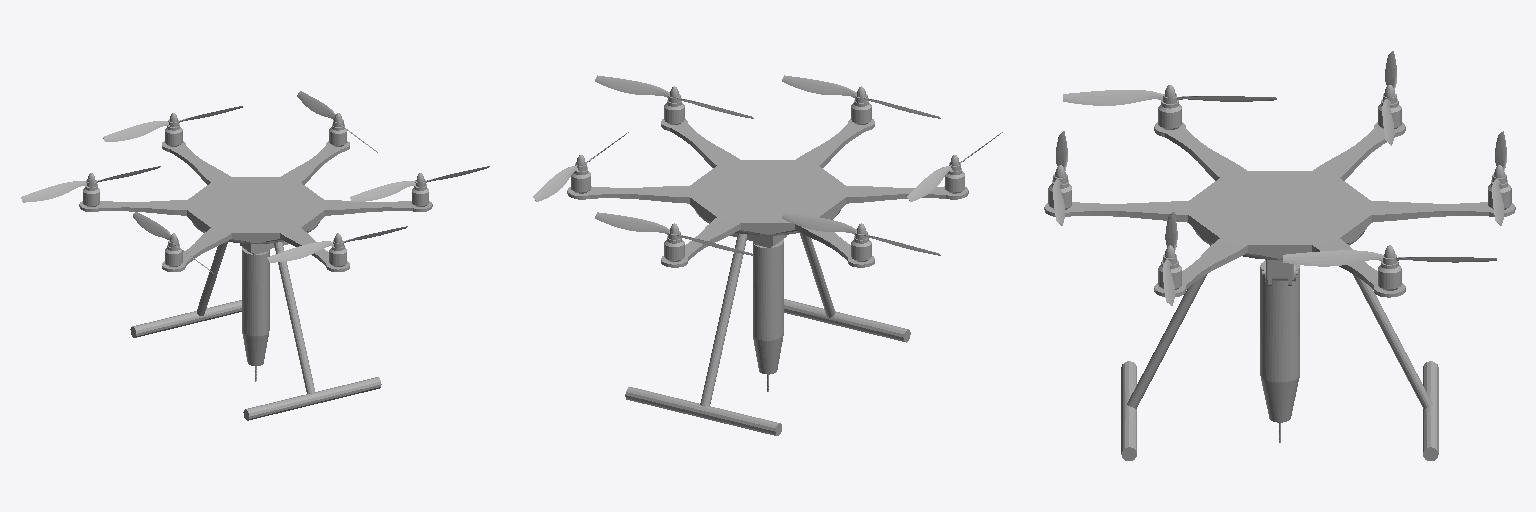
robot.urdf — Drilling:
<?xml version="1.0" ?>
<!-- =================================================================================== -->
<!-- |    This document was autogenerated by xacro from Drilling.xacro                 | -->
<!-- |    EDITING THIS FILE BY HAND IS NOT RECOMMENDED                                 | -->
<!-- =================================================================================== -->
<robot name="Drilling">
  <material name="silver">
    <color rgba="0.700 0.700 0.700 1.000"/>
  </material>
  <transmission name="Rev1_tran">
    <type>transmission_interface/SimpleTransmission</type>
    <joint name="Rev1">
      <hardwareInterface>hardware_interface/EffortJointInterface</hardwareInterface>
    </joint>
    <actuator name="Rev1_actr">
      <hardwareInterface>hardware_interface/EffortJointInterface</hardwareInterface>
      <mechanicalReduction>1</mechanicalReduction>
    </actuator>
  </transmission>
  <transmission name="Rev2_tran">
    <type>transmission_interface/SimpleTransmission</type>
    <joint name="Rev2">
      <hardwareInterface>hardware_interface/EffortJointInterface</hardwareInterface>
    </joint>
    <actuator name="Rev2_actr">
      <hardwareInterface>hardware_interface/EffortJointInterface</hardwareInterface>
      <mechanicalReduction>1</mechanicalReduction>
    </actuator>
  </transmission>
  <transmission name="Rev3_tran">
    <type>transmission_interface/SimpleTransmission</type>
    <joint name="Rev3">
      <hardwareInterface>hardware_interface/EffortJointInterface</hardwareInterface>
    </joint>
    <actuator name="Rev3_actr">
      <hardwareInterface>hardware_interface/EffortJointInterface</hardwareInterface>
      <mechanicalReduction>1</mechanicalReduction>
    </actuator>
  </transmission>
  <transmission name="Rev4_tran">
    <type>transmission_interface/SimpleTransmission</type>
    <joint name="Rev4">
      <hardwareInterface>hardware_interface/EffortJointInterface</hardwareInterface>
    </joint>
    <actuator name="Rev4_actr">
      <hardwareInterface>hardware_interface/EffortJointInterface</hardwareInterface>
      <mechanicalReduction>1</mechanicalReduction>
    </actuator>
  </transmission>
  <transmission name="Rev5_tran">
    <type>transmission_interface/SimpleTransmission</type>
    <joint name="Rev5">
      <hardwareInterface>hardware_interface/EffortJointInterface</hardwareInterface>
    </joint>
    <actuator name="Rev5_actr">
      <hardwareInterface>hardware_interface/EffortJointInterface</hardwareInterface>
      <mechanicalReduction>1</mechanicalReduction>
    </actuator>
  </transmission>
  <transmission name="Rev6_tran">
    <type>transmission_interface/SimpleTransmission</type>
    <joint name="Rev6">
      <hardwareInterface>hardware_interface/EffortJointInterface</hardwareInterface>
    </joint>
    <actuator name="Rev6_actr">
      <hardwareInterface>hardware_interface/EffortJointInterface</hardwareInterface>
      <mechanicalReduction>1</mechanicalReduction>
    </actuator>
  </transmission>
  <transmission name="Rev10_tran">
    <type>transmission_interface/SimpleTransmission</type>
    <joint name="Rev10">
      <hardwareInterface>hardware_interface/EffortJointInterface</hardwareInterface>
    </joint>
    <actuator name="Rev10_actr">
      <hardwareInterface>hardware_interface/EffortJointInterface</hardwareInterface>
      <mechanicalReduction>1</mechanicalReduction>
    </actuator>
  </transmission>
  <transmission name="Rev11_tran">
    <type>transmission_interface/SimpleTransmission</type>
    <joint name="Rev11">
      <hardwareInterface>hardware_interface/EffortJointInterface</hardwareInterface>
    </joint>
    <actuator name="Rev11_actr">
      <hardwareInterface>hardware_interface/EffortJointInterface</hardwareInterface>
      <mechanicalReduction>1</mechanicalReduction>
    </actuator>
  </transmission>
  <gazebo>
    <plugin filename="libgazebo_ros_control.so" name="control"/>
  </gazebo>
  <gazebo reference="base_link">
    <material>Gazebo/Silver</material>
    <mu1>0.2</mu1>
    <mu2>0.2</mu2>
    <selfCollide>true</selfCollide>
    <gravity>true</gravity>
  </gazebo>
  <gazebo reference="Component2_1">
    <material>Gazebo/Silver</material>
    <mu1>0.2</mu1>
    <mu2>0.2</mu2>
    <selfCollide>true</selfCollide>
  </gazebo>
  <gazebo reference="Component2_2">
    <material>Gazebo/Silver</material>
    <mu1>0.2</mu1>
    <mu2>0.2</mu2>
    <selfCollide>true</selfCollide>
  </gazebo>
  <gazebo reference="Component2_3">
    <material>Gazebo/Silver</material>
    <mu1>0.2</mu1>
    <mu2>0.2</mu2>
    <selfCollide>true</selfCollide>
  </gazebo>
  <gazebo reference="Component2_4">
    <material>Gazebo/Silver</material>
    <mu1>0.2</mu1>
    <mu2>0.2</mu2>
    <selfCollide>true</selfCollide>
  </gazebo>
  <gazebo reference="Component2_5">
    <material>Gazebo/Silver</material>
    <mu1>0.2</mu1>
    <mu2>0.2</mu2>
    <selfCollide>true</selfCollide>
  </gazebo>
  <gazebo reference="Component2_6">
    <material>Gazebo/Silver</material>
    <mu1>0.2</mu1>
    <mu2>0.2</mu2>
    <selfCollide>true</selfCollide>
  </gazebo>
  <gazebo reference="Component3_1">
    <material>Gazebo/Silver</material>
    <mu1>0.2</mu1>
    <mu2>0.2</mu2>
    <selfCollide>true</selfCollide>
  </gazebo>
  <gazebo reference="Component5_1">
    <material>Gazebo/Silver</material>
    <mu1>0.2</mu1>
    <mu2>0.2</mu2>
    <selfCollide>true</selfCollide>
  </gazebo>
  <gazebo reference="Component4_1">
    <material>Gazebo/Silver</material>
    <mu1>0.2</mu1>
    <mu2>0.2</mu2>
    <selfCollide>true</selfCollide>
  </gazebo>
  <link name="base_link">
    <inertial>
      <origin rpy="0 0 0" xyz="0.0007409944454271297 -0.00018575300431278248 -0.03004710734399212"/>
      <mass value="1.4011736369087806"/>
      <inertia ixx="0.027819" ixy="-0.0" ixz="0.0" iyy="0.021092" iyz="-0.0" izz="0.024068"/>
    </inertial>
    <visual>
      <origin rpy="0 0 0" xyz="0 0 0"/>
      <geometry>
        <mesh filename="package://Drilling_description/meshes/base_link.stl" scale="0.001 0.001 0.001"/>
      </geometry>
      <material name="silver"/>
    </visual>
    <collision>
      <origin rpy="0 0 0" xyz="0 0 0"/>
      <geometry>
        <mesh filename="package://Drilling_description/meshes/base_link.stl" scale="0.001 0.001 0.001"/>
      </geometry>
    </collision>
  </link>
  <link name="Component2_1">
    <inertial>
      <origin rpy="0 0 0" xyz="-9.957231572599312e-08 2.724718541069482e-07 0.02214285551193418"/>
      <mass value="0.02997397356005734"/>
      <inertia ixx="2.3e-05" ixy="-0.0" ixz="-0.0" iyy="7e-06" iyz="0.0" izz="1.9e-05"/>
    </inertial>
    <visual>
      <origin rpy="0 0 0" xyz="0.237414 0.137686 -0.022556"/>
      <geometry>
        <mesh filename="package://Drilling_description/meshes/Component2_1.stl" scale="0.001 0.001 0.001"/>
      </geometry>
      <material name="silver"/>
    </visual>
    <collision>
      <origin rpy="0 0 0" xyz="0.237414 0.137686 -0.022556"/>
      <geometry>
        <mesh filename="package://Drilling_description/meshes/Component2_1.stl" scale="0.001 0.001 0.001"/>
      </geometry>
    </collision>
  </link>
  <link name="Component2_2">
    <inertial>
      <origin rpy="0 0 0" xyz="-1.1702442880446445e-07 2.940560291930794e-07 0.022142855511934123"/>
      <mass value="0.02997397356005734"/>
      <inertia ixx="7e-06" ixy="0.0" ixz="-0.0" iyy="2.3e-05" iyz="-0.0" izz="1.9e-05"/>
    </inertial>
    <visual>
      <origin rpy="0 0 0" xyz="-0.000743 0.275186 -0.022556"/>
      <geometry>
        <mesh filename="package://Drilling_description/meshes/Component2_2.stl" scale="0.001 0.001 0.001"/>
      </geometry>
      <material name="silver"/>
    </visual>
    <collision>
      <origin rpy="0 0 0" xyz="-0.000743 0.275186 -0.022556"/>
      <geometry>
        <mesh filename="package://Drilling_description/meshes/Component2_2.stl" scale="0.001 0.001 0.001"/>
      </geometry>
    </collision>
  </link>
  <link name="Component2_3">
    <inertial>
      <origin rpy="0 0 0" xyz="-1.3098370804653925e-07 2.9405602910981266e-07 0.02214285551193418"/>
      <mass value="0.02997397356005734"/>
      <inertia ixx="7e-06" ixy="0.0" ixz="-0.0" iyy="2.3e-05" iyz="-0.0" izz="1.9e-05"/>
    </inertial>
    <visual>
      <origin rpy="0 0 0" xyz="-0.2389 0.137686 -0.022556"/>
      <geometry>
        <mesh filename="package://Drilling_description/meshes/Component2_3.stl" scale="0.001 0.001 0.001"/>
      </geometry>
      <material name="silver"/>
    </visual>
    <collision>
      <origin rpy="0 0 0" xyz="-0.2389 0.137686 -0.022556"/>
      <geometry>
        <mesh filename="package://Drilling_description/meshes/Component2_3.stl" scale="0.001 0.001 0.001"/>
      </geometry>
    </collision>
  </link>
  <link name="Component2_4">
    <inertial>
      <origin rpy="0 0 0" xyz="-1.5256788316042602e-07 2.9056319558740107e-07 0.02214285551193413"/>
      <mass value="0.02997397356005734"/>
      <inertia ixx="2.3e-05" ixy="-0.0" ixz="0.0" iyy="7e-06" iyz="-0.0" izz="1.9e-05"/>
    </inertial>
    <visual>
      <origin rpy="0 0 0" xyz="-0.2389 -0.137314 -0.022556"/>
      <geometry>
        <mesh filename="package://Drilling_description/meshes/Component2_4.stl" scale="0.001 0.001 0.001"/>
      </geometry>
      <material name="silver"/>
    </visual>
    <collision>
      <origin rpy="0 0 0" xyz="-0.2389 -0.137314 -0.022556"/>
      <geometry>
        <mesh filename="package://Drilling_description/meshes/Component2_4.stl" scale="0.001 0.001 0.001"/>
      </geometry>
    </collision>
  </link>
  <link name="Component2_5">
    <inertial>
      <origin rpy="0 0 0" xyz="-1.3511576994133367e-07 2.6897902039024757e-07 0.02214285551193417"/>
      <mass value="0.02997397356005734"/>
      <inertia ixx="7e-06" ixy="0.0" ixz="0.0" iyy="2.3e-05" iyz="0.0" izz="1.9e-05"/>
    </inertial>
    <visual>
      <origin rpy="0 0 0" xyz="-0.000743 -0.274814 -0.022556"/>
      <geometry>
        <mesh filename="package://Drilling_description/meshes/Component2_5.stl" scale="0.001 0.001 0.001"/>
      </geometry>
      <material name="silver"/>
    </visual>
    <collision>
      <origin rpy="0 0 0" xyz="-0.000743 -0.274814 -0.022556"/>
      <geometry>
        <mesh filename="package://Drilling_description/meshes/Component2_5.stl" scale="0.001 0.001 0.001"/>
      </geometry>
    </collision>
  </link>
  <link name="Component2_6">
    <inertial>
      <origin rpy="0 0 0" xyz="-1.2115649092314662e-07 2.6897902050126987e-07 0.022142855511934144"/>
      <mass value="0.02997397356005734"/>
      <inertia ixx="7e-06" ixy="0.0" ixz="0.0" iyy="2.3e-05" iyz="0.0" izz="1.9e-05"/>
    </inertial>
    <visual>
      <origin rpy="0 0 0" xyz="0.237414 -0.137314 -0.022556"/>
      <geometry>
        <mesh filename="package://Drilling_description/meshes/Component2_6.stl" scale="0.001 0.001 0.001"/>
      </geometry>
      <material name="silver"/>
    </visual>
    <collision>
      <origin rpy="0 0 0" xyz="0.237414 -0.137314 -0.022556"/>
      <geometry>
        <mesh filename="package://Drilling_description/meshes/Component2_6.stl" scale="0.001 0.001 0.001"/>
      </geometry>
    </collision>
  </link>
  <link name="Component3_1">
    <inertial>
      <origin rpy="0 0 0" xyz="7.912531740927875e-12 -1.9775532191693154e-12 -0.030064400329856678"/>
      <mass value="0.047497097171063256"/>
      <inertia ixx="1.4e-05" ixy="0.0" ixz="0.0" iyy="1.2e-05" iyz="0.0" izz="9e-06"/>
    </inertial>
    <visual>
      <origin rpy="0 0 0" xyz="-0.0525 0.0 -0.0"/>
      <geometry>
        <mesh filename="package://Drilling_description/meshes/Component3_1.stl" scale="0.001 0.001 0.001"/>
      </geometry>
      <material name="silver"/>
    </visual>
    <collision>
      <origin rpy="0 0 0" xyz="-0.0525 0.0 -0.0"/>
      <geometry>
        <mesh filename="package://Drilling_description/meshes/Component3_1.stl" scale="0.001 0.001 0.001"/>
      </geometry>
    </collision>
  </link>
  <link name="Component5_1">
    <inertial>
      <origin rpy="0 0 0" xyz="3.705164159425317e-12 -7.924302410511538e-14 -0.017021191173281436"/>
      <mass value="0.00021466150433616682"/>
      <inertia ixx="0.0" ixy="-0.0" ixz="0.0" iyy="0.0" iyz="0.0" izz="0.0"/>
    </inertial>
    <visual>
      <origin rpy="0 0 0" xyz="-0.00025 0.0 0.2696"/>
      <geometry>
        <mesh filename="package://Drilling_description/meshes/Component5_1.stl" scale="0.001 0.001 0.001"/>
      </geometry>
      <material name="silver"/>
    </visual>
    <collision>
      <origin rpy="0 0 0" xyz="-0.00025 0.0 0.2696"/>
      <geometry>
        <mesh filename="package://Drilling_description/meshes/Component5_1.stl" scale="0.001 0.001 0.001"/>
      </geometry>
    </collision>
  </link>
  <link name="Component4_1">
    <inertial>
      <origin rpy="0 0 0" xyz="-0.0519070291202938 -0.017750708854665134 -0.09645899486628742"/>
      <mass value="0.4016667315756196"/>
      <inertia ixx="0.001699" ixy="0.0" ixz="-1.3e-05" iyy="0.001693" iyz="0.0" izz="0.000111"/>
    </inertial>
    <visual>
      <origin rpy="0 0 0" xyz="-0.0525 -0.01775 0.0446"/>
      <geometry>
        <mesh filename="package://Drilling_description/meshes/Component4_1.stl" scale="0.001 0.001 0.001"/>
      </geometry>
      <material name="silver"/>
    </visual>
    <collision>
      <origin rpy="0 0 0" xyz="-0.0525 -0.01775 0.0446"/>
      <geometry>
        <mesh filename="package://Drilling_description/meshes/Component4_1.stl" scale="0.001 0.001 0.001"/>
      </geometry>
    </collision>
  </link>
  <joint name="Rev1" type="continuous">
    <origin rpy="0 0 0" xyz="-0.237414 -0.137686 0.022556"/>
    <parent link="base_link"/>
    <child link="Component2_1"/>
    <axis xyz="0.0 0.0 1.0"/>
  </joint>
  <joint name="Rev2" type="continuous">
    <origin rpy="0 0 0" xyz="0.000743 -0.275186 0.022556"/>
    <parent link="base_link"/>
    <child link="Component2_2"/>
    <axis xyz="0.0 0.0 1.0"/>
  </joint>
  <joint name="Rev3" type="continuous">
    <origin rpy="0 0 0" xyz="0.2389 -0.137686 0.022556"/>
    <parent link="base_link"/>
    <child link="Component2_3"/>
    <axis xyz="0.0 0.0 1.0"/>
  </joint>
  <joint name="Rev4" type="continuous">
    <origin rpy="0 0 0" xyz="0.2389 0.137314 0.022556"/>
    <parent link="base_link"/>
    <child link="Component2_4"/>
    <axis xyz="0.0 0.0 1.0"/>
  </joint>
  <joint name="Rev5" type="continuous">
    <origin rpy="0 0 0" xyz="0.000743 0.274814 0.022556"/>
    <parent link="base_link"/>
    <child link="Component2_5"/>
    <axis xyz="0.0 0.0 1.0"/>
  </joint>
  <joint name="Rev6" type="continuous">
    <origin rpy="0 0 0" xyz="-0.237414 0.137314 0.022556"/>
    <parent link="base_link"/>
    <child link="Component2_6"/>
    <axis xyz="0.0 0.0 1.0"/>
  </joint>
  <joint name="Rigid7" type="fixed">
    <origin rpy="0 0 0" xyz="0.0525 0.0 0.0"/>
    <parent link="base_link"/>
    <child link="Component3_1"/>
  </joint>
  <joint name="Rev10" type="continuous">
    <origin rpy="0 0 0" xyz="-0.05225 -0.01775 -0.225"/>
    <parent link="Component4_1"/>
    <child link="Component5_1"/>
    <axis xyz="0.0 0.0 -1.0"/>
  </joint>
  <joint name="Rev11" type="revolute">
    <origin rpy="0 0 0" xyz="0.0 0.01775 -0.0446"/>
    <parent link="Component3_1"/>
    <child link="Component4_1"/>
    <axis xyz="0.0 1.0 0.0"/>
    <limit effort="100" lower="-1.570796" upper="0.436332" velocity="100"/>
  </joint>
</robot>

--- Render facts (derived) ---
Views: 3 orthographic renders of the robot side by side, from view 1: azimuth 30°, elevation 25°; view 2: azimuth 150°, elevation 25°; view 3: azimuth 270°, elevation 25°.
Model Drilling with 10 links and 9 joints (1 revolute, 7 continuous, 1 fixed), rooted at base_link, posed all joints at 0.
Links seen in each view (by area): view 1: base_link, Component4_1, Component2_2, Component2_5, Component2_3, Component2_6, Component2_4, Component2_1; view 2: base_link, Component4_1, Component2_5, Component2_6, Component2_3, Component2_2, Component2_4, Component2_1; view 3: base_link, Component4_1, Component2_1, Component2_4, Component2_5, Component2_2, Component2_3, Component2_6, Component3_1.
Link boxes in pixels (x1=…): base_link: x1=79, y1=141, x2=432, y2=420; Component4_1: x1=240, y1=241, x2=288, y2=365; Component2_2: x1=267, y1=226, x2=407, y2=266; Component2_5: x1=103, y1=106, x2=242, y2=146; Component2_3: x1=350, y1=166, x2=489, y2=206; Component2_6: x1=21, y1=166, x2=160, y2=206; Component2_4: x1=297, y1=91, x2=377, y2=152; Component2_1: x1=133, y1=212, x2=213, y2=273; base_link: x1=567, y1=119, x2=968, y2=435; Component4_1: x1=730, y1=233, x2=786, y2=374; Component2_5: x1=595, y1=212, x2=753, y2=261; Component2_6: x1=782, y1=212, x2=940, y2=261; Component2_3: x1=595, y1=75, x2=753, y2=124; Component2_2: x1=782, y1=75, x2=940, y2=124; Component2_4: x1=533, y1=132, x2=628, y2=201; Component2_1: x1=907, y1=132, x2=1002, y2=201; base_link: x1=1044, y1=122, x2=1515, y2=460; Component4_1: x1=1260, y1=260, x2=1299, y2=422; Component2_1: x1=1063, y1=85, x2=1276, y2=129; Component2_4: x1=1283, y1=245, x2=1496, y2=290; Component2_5: x1=1488, y1=131, x2=1511, y2=225; Component2_2: x1=1048, y1=131, x2=1071, y2=225; Component2_3: x1=1158, y1=212, x2=1181, y2=305; Component2_6: x1=1378, y1=51, x2=1401, y2=145; Component3_1: x1=1262, y1=260, x2=1297, y2=285.
Bounding box of the posed robot: 0.7443 × 0.59 × 0.3852 m (x, y, z).
10 mesh visuals loaded from 10 distinct referenced files (10 binary STL).